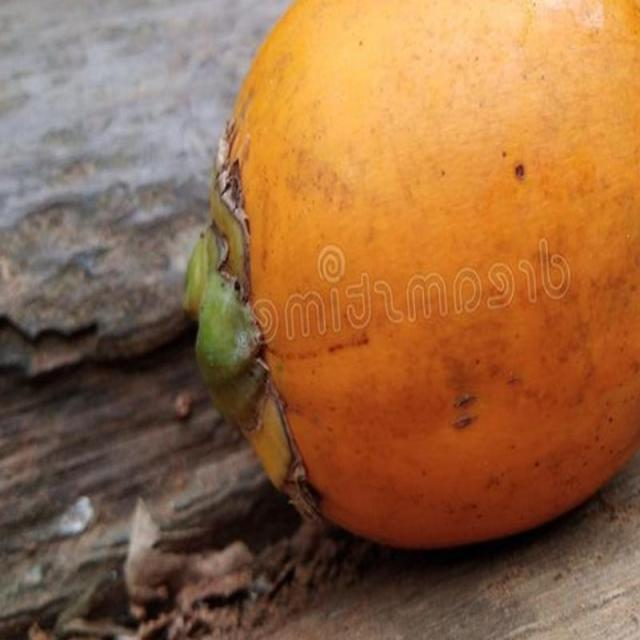good: (184, 0, 639, 553)
